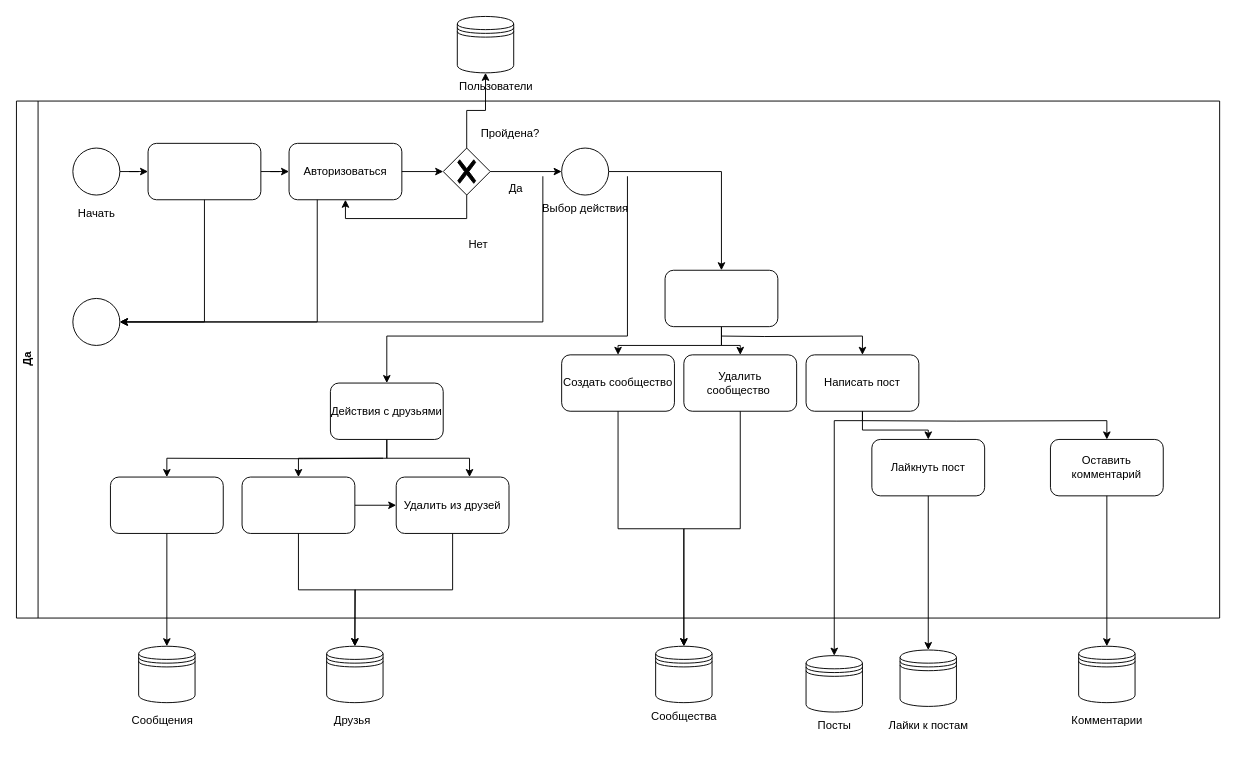
This 1236x757 diagram has some shape labels left out. The centre of each missing label's shape, as x and y in pixels:
"Выход" belongs at pixel 96 321.
"Действия с сообществами" belongs at pixel 721 298.
"Добавить в друзья" belongs at pixel 298 504.
"Зарегистрироваться" belongs at pixel 204 171.
"Чаты" belongs at pixel 166 504.
